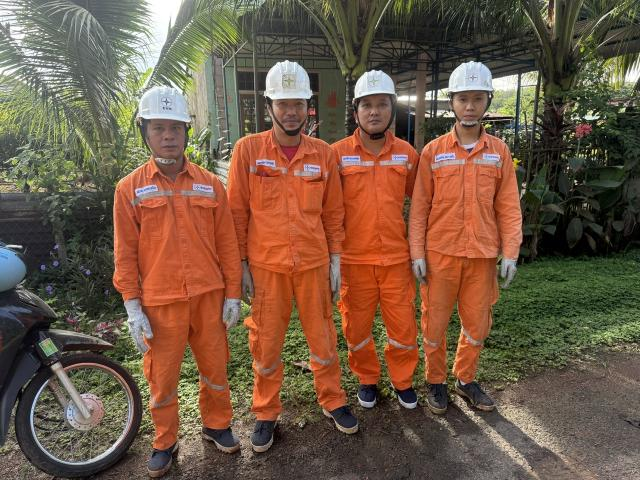gloves: (106, 290, 158, 356), (229, 247, 273, 306), (323, 245, 354, 309), (409, 244, 445, 295), (496, 241, 529, 294), (218, 292, 251, 337)
helmet: (129, 79, 204, 129), (263, 58, 312, 106), (443, 59, 498, 99), (350, 67, 397, 105)
shoes: (456, 360, 510, 418), (246, 407, 295, 457), (132, 436, 186, 480), (317, 389, 359, 441), (357, 364, 382, 441), (199, 418, 246, 456), (425, 369, 454, 423), (394, 372, 420, 421)
